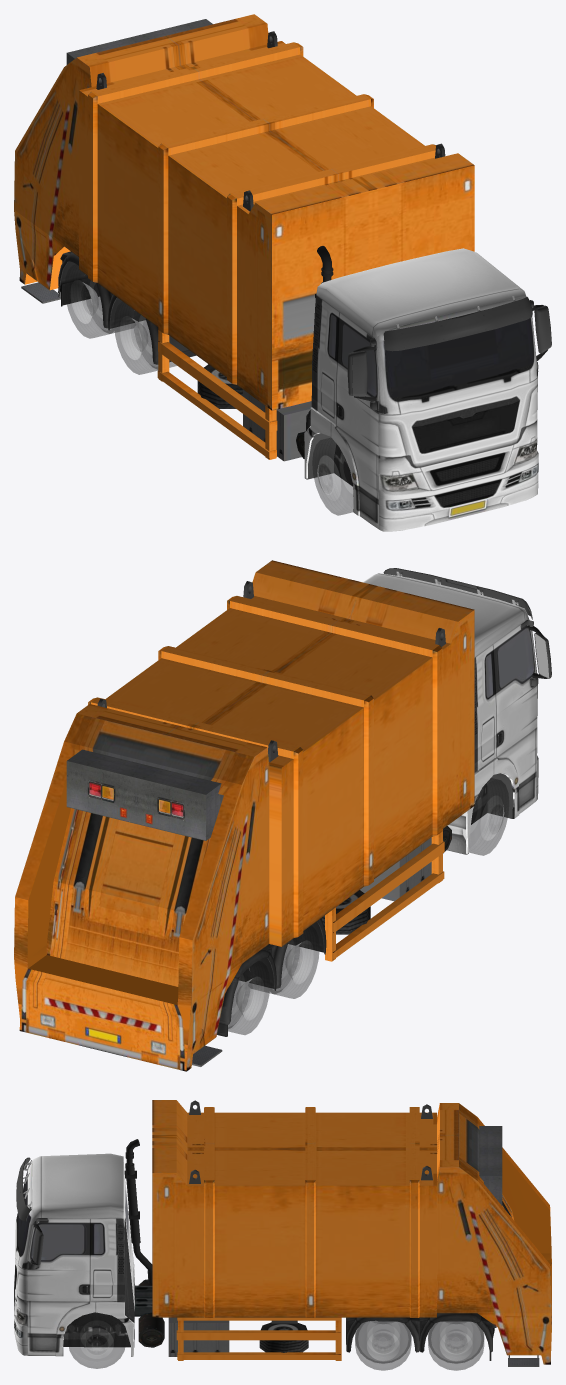
The model's file is fleet-truck.glb.
3 views of the same model, one above another, from view 1: azimuth 30°, elevation 25°; view 2: azimuth 150°, elevation 25°; view 3: azimuth 270°, elevation 25° (orthographic). The views are drawn at different scales.
Parts seen in each view (by area): view 1: Truck 2; view 2: Truck 2; view 3: Truck 2.
Boxes of the visible parts, x1=… form: Truck 2: x1=14, y1=14, x2=551, y2=531; Truck 2: x1=14, y1=560, x2=551, y2=1071; Truck 2: x1=14, y1=1100, x2=551, y2=1370.
Bounding box in the file's own units: 113 × 143 × 340.
Materials: 2 (2 with a texture image).
